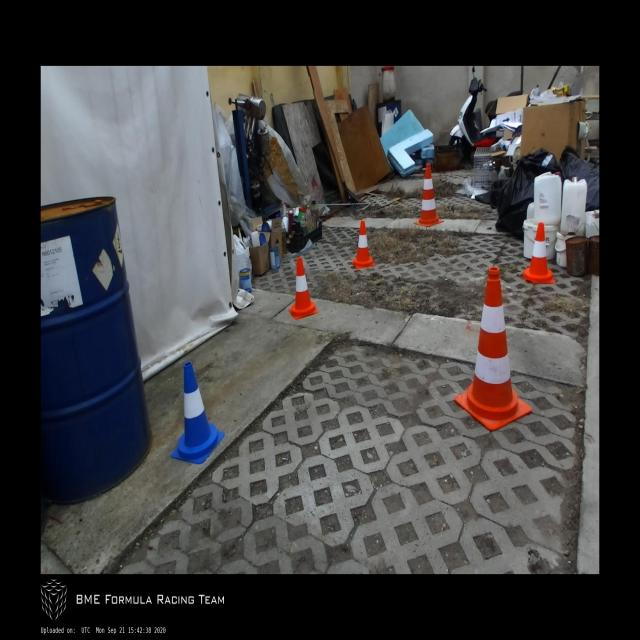blue_cone: (171, 363, 224, 465)
large_orange_cone: (455, 268, 531, 432), (413, 165, 444, 227)
orange_cone: (522, 222, 554, 284), (289, 257, 318, 319), (352, 221, 375, 267)
